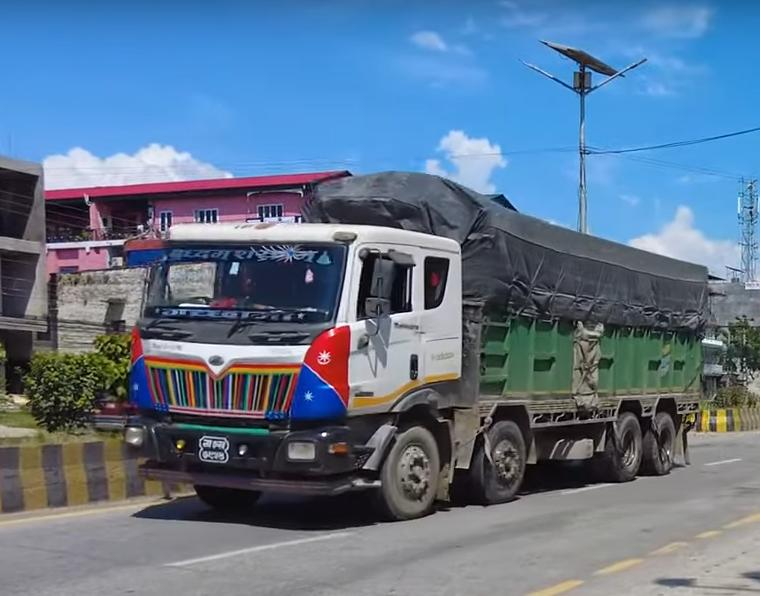truck: (120, 169, 713, 521)
